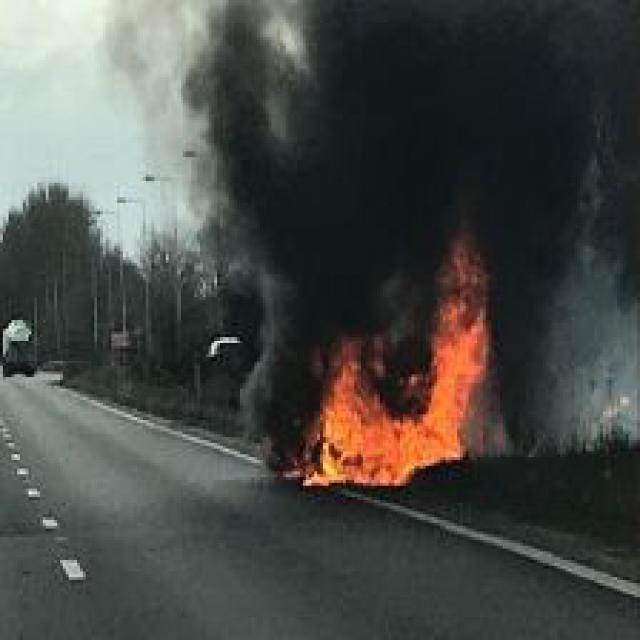fire: (283, 186, 503, 500)
